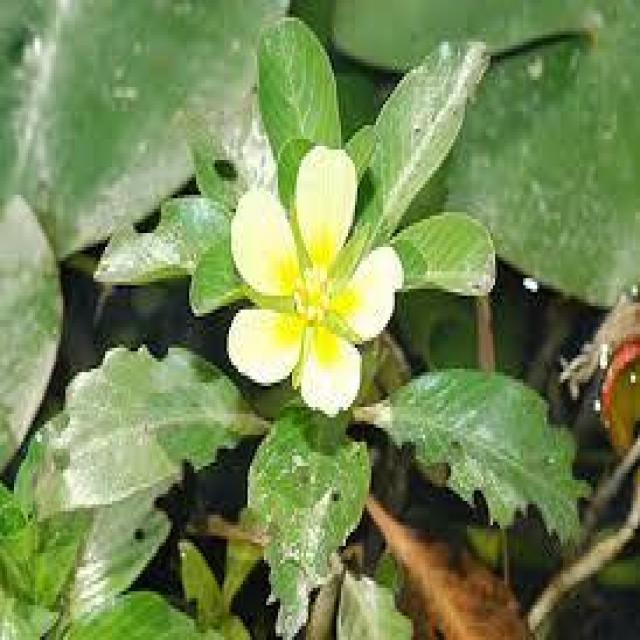organic waste: (214, 132, 412, 435)
